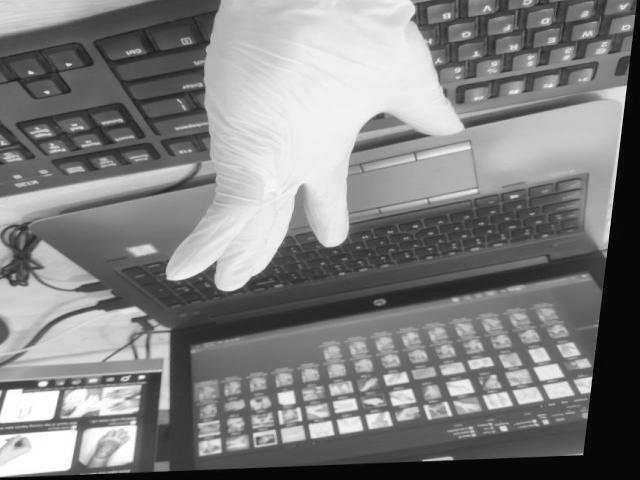gloved: (167, 0, 467, 293)
